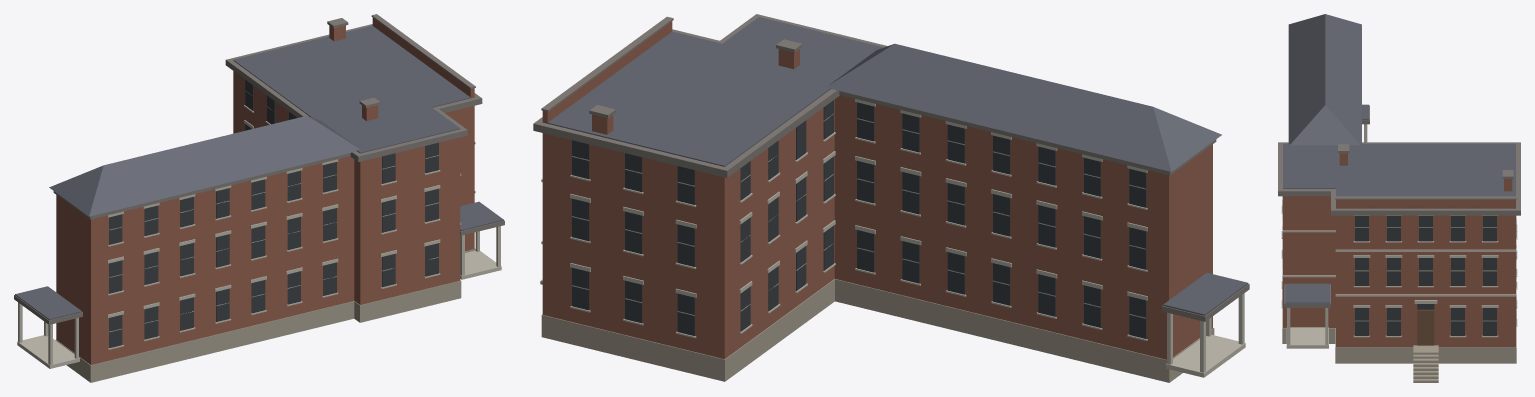
Rendered from dexter_house_1721_prairie__draft_1904.glb.
3 renders of one model, left to right at view 1: azimuth 30°, elevation 25°; view 2: azimuth 150°, elevation 25°; view 3: azimuth 270°, elevation 25°, orthographic. The views are drawn at different scales.
Visible parts, largest first — view 1: dexter_house_1721_prairie__draft_1904; view 2: dexter_house_1721_prairie__draft_1904; view 3: dexter_house_1721_prairie__draft_1904.
Boxes of the visible parts, <box> form: dexter_house_1721_prairie__draft_1904: <box>14,14,504,382</box>; dexter_house_1721_prairie__draft_1904: <box>533,14,1249,382</box>; dexter_house_1721_prairie__draft_1904: <box>1278,14,1520,382</box>.
Bounding box in the file's own units: 36.45 × 14.13 × 17.2.
